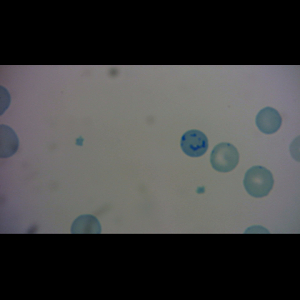aggregate reticulocyte: (180, 129, 210, 158)
erythrocyte: (255, 106, 283, 136)
punctate reticulocyte: (241, 164, 276, 199), (209, 141, 241, 173)
